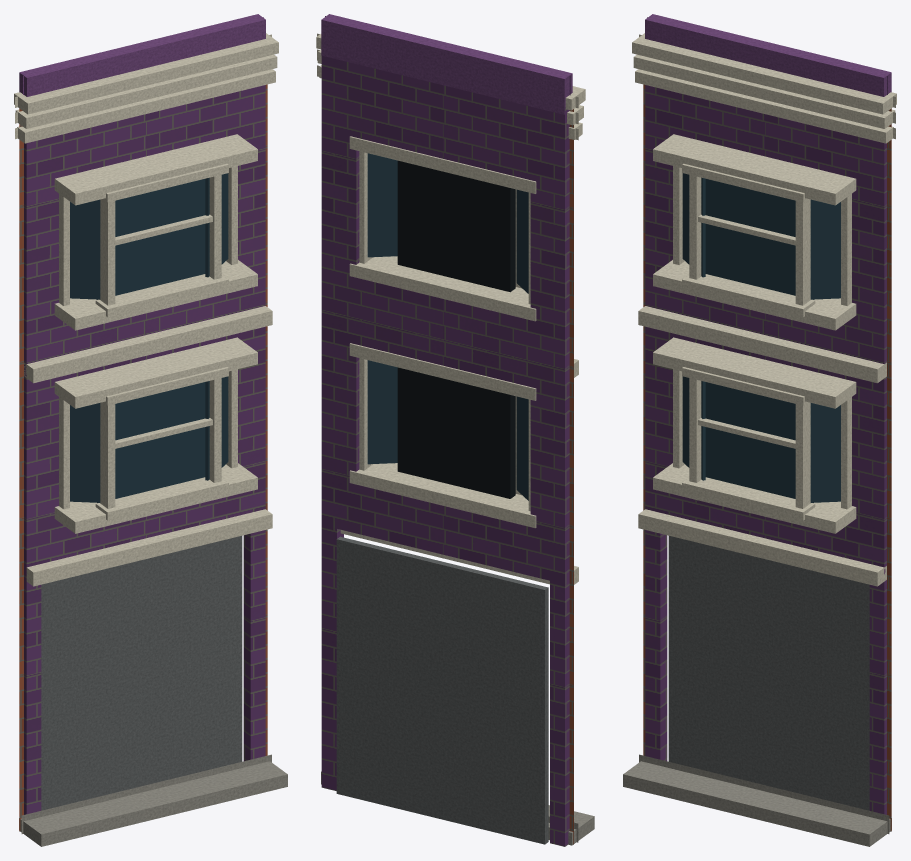
The model's file is VICT3B_lod2.glb.
The picture shows the model from 3 angles, left to right: view 1: azimuth 30°, elevation 25°; view 2: azimuth 150°, elevation 25°; view 3: azimuth 330°, elevation 25°; orthographic projection.
Visible parts, largest first — view 1: VICT3B_FRONT_LOD2; view 2: VICT3B_FRONT_LOD2; view 3: VICT3B_FRONT_LOD2.
Boxes of the visible parts, box(x1,y1,x2,y2) form: VICT3B_FRONT_LOD2: box(14, 14, 287, 846); VICT3B_FRONT_LOD2: box(316, 14, 594, 846); VICT3B_FRONT_LOD2: box(623, 14, 896, 846).
Bounding box in the file's own units: 3.44 × 9.66 × 0.735.
8 materials, 6 textured.
